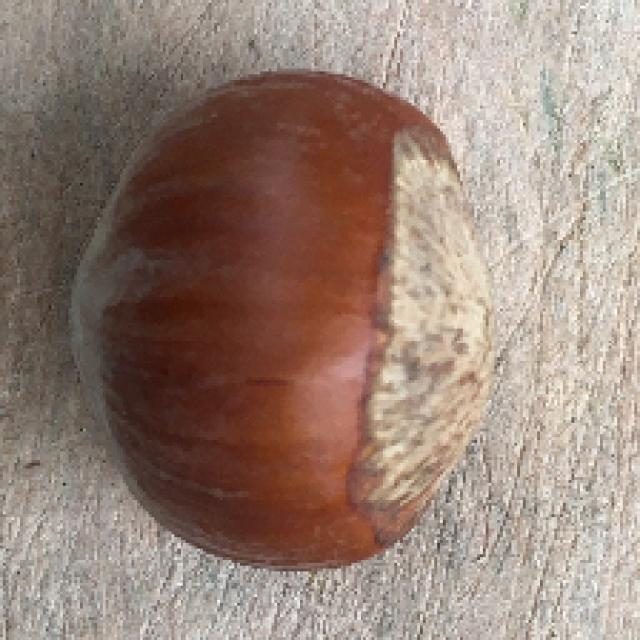qualityHazelnut: (77, 62, 505, 575)
